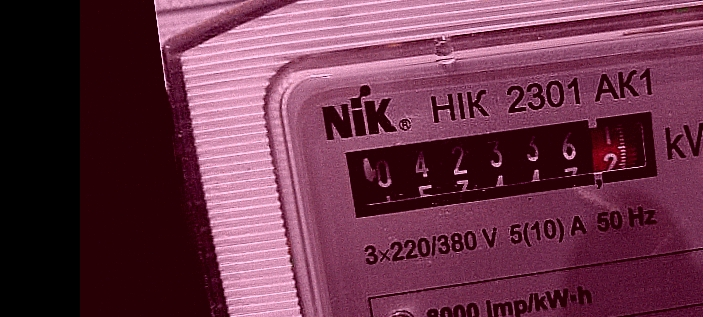0: (372, 155, 395, 190)
1: (599, 119, 614, 147)
2: (446, 140, 472, 177), (600, 150, 619, 173)
3: (483, 135, 505, 169), (522, 130, 543, 164)
4: (411, 146, 432, 180)
6: (557, 127, 581, 163)
screen: (331, 95, 675, 229)
